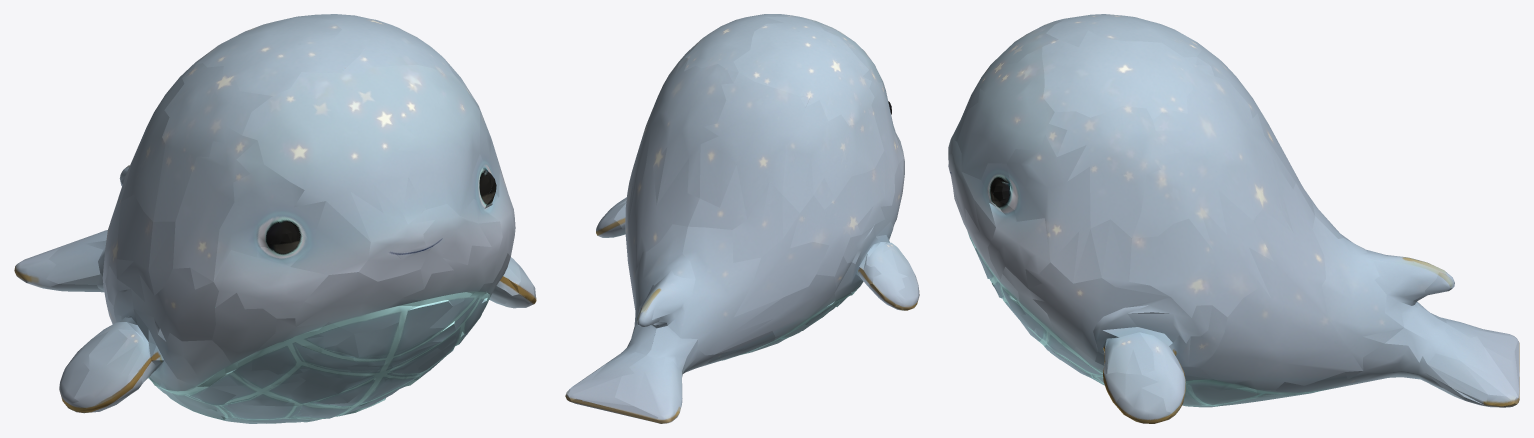
The model's file is starwhale.glb.
3 views of the same model, side by side, from view 1: azimuth 30°, elevation 25°; view 2: azimuth 150°, elevation 25°; view 3: azimuth 270°, elevation 25° (orthographic). The views are drawn at different scales.
Visible parts, largest first — view 1: output_unwrapped; view 2: output_unwrapped; view 3: output_unwrapped.
Boxes of the visible parts, left/top/right/bottom form: output_unwrapped: left=14, top=14, right=536, bottom=423; output_unwrapped: left=565, top=14, right=919, bottom=423; output_unwrapped: left=948, top=14, right=1519, bottom=423.
Size of the model in its own units: 1.55 by 1.31 by 1.9.
1 material, 1 textured.
